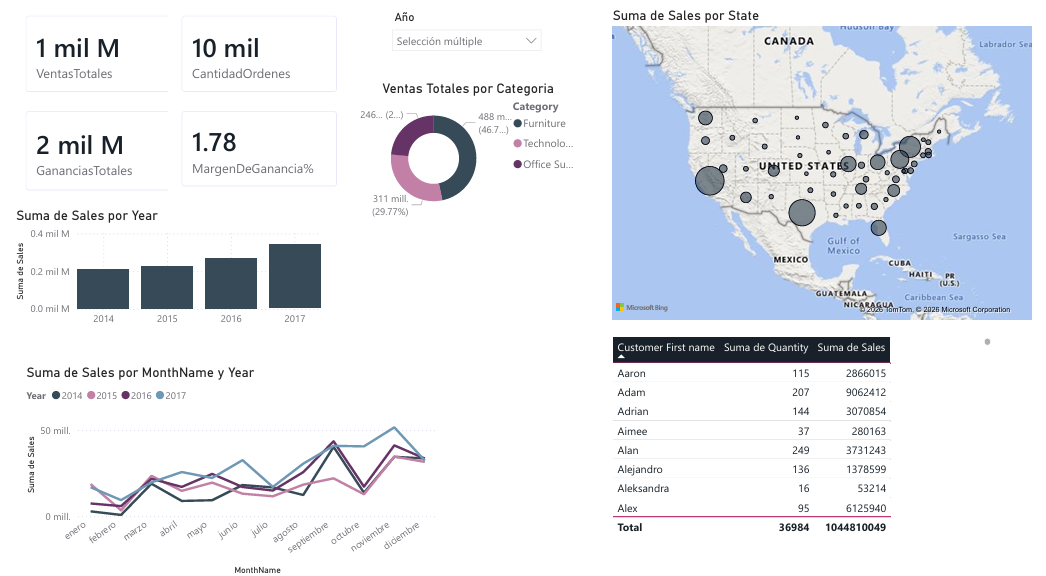

This screenshot's page, from the dashboard's own definition file:
{"tool":"powerbi","page":{"name":"Página 1","canvas":[1280,720],"ordinal":0},"visuals":[{"type":"cardVisual","fields":{"Data":["Hechos.VentasTotales"]},"box":[0,0,162.5,100],"z":0},{"type":"cardVisual","fields":{"Data":["Hechos.CantidadOrdenes"]},"box":[154.8,0,182.7,100],"z":1000},{"type":"cardVisual","fields":{"Data":["Hechos.GananciasTotales"]},"box":[0,90.4,174,108.7],"z":2000},{"type":"cardVisual","fields":{"Data":["Hechos.MargenDeGanancia%"]},"box":[152.9,96.2,173.1,98.1],"z":3000},{"type":"slicer","fields":{"Values":["Calendario.Year"]},"box":[465.4,5.8,206.7,66.3],"z":4000},{"type":"donutChart","title":"Ventas Totales por Categoria","fields":{"Y":["Hechos.Sales"],"Category":["DimProducts.Category"]},"box":[423,96.7,291.8,177],"z":5000},{"type":"clusteredColumnChart","fields":{"Category":["Calendario.Year"],"Y":["Hechos.Sales"]},"box":[0,255.7,390.2,157.4],"z":6000},{"type":"lineChart","fields":{"Y":["Hechos.Sales"],"Category":["Calendario.MonthName"],"Series":["Calendario.Year"]},"box":[13.1,452.5,523,267.2],"z":7000},{"type":"map","fields":{"Category":["DimGeo.State"],"Size":["Hechos.Sales"]},"box":[746.2,5.8,533.7,395.2],"z":8000},{"type":"tableEx","fields":{"Values":["DimCustomers.Customer First name","Hechos.Quantity","Hechos.Sales"]},"box":[746.2,414.4,482.7,256.7],"z":9000}]}

Visuals, with their boxes in screenshot pixels (x1, y1, x2, y2), scaled from the page's 1280x720 canvas onto the 1046x576 screenshot:
cardVisual - Hechos.VentasTotales: [x1=0, y1=0, x2=133, y2=80]
cardVisual - Hechos.CantidadOrdenes: [x1=127, y1=0, x2=276, y2=80]
cardVisual - Hechos.GananciasTotales: [x1=0, y1=72, x2=142, y2=159]
cardVisual - Hechos.MargenDeGanancia%: [x1=125, y1=77, x2=266, y2=155]
slicer - Calendario.Year: [x1=380, y1=5, x2=549, y2=58]
"Ventas Totales por Categoria" donutChart: [x1=346, y1=77, x2=584, y2=219]
clusteredColumnChart - Calendario.Year x Hechos.Sales: [x1=0, y1=205, x2=319, y2=330]
lineChart - Hechos.Sales x Calendario.MonthName: [x1=11, y1=362, x2=438, y2=575]
map - DimGeo.State x Hechos.Sales: [x1=610, y1=5, x2=1045, y2=321]
tableEx - DimCustomers.Customer First name x Hechos.Quantity: [x1=610, y1=332, x2=1004, y2=537]
